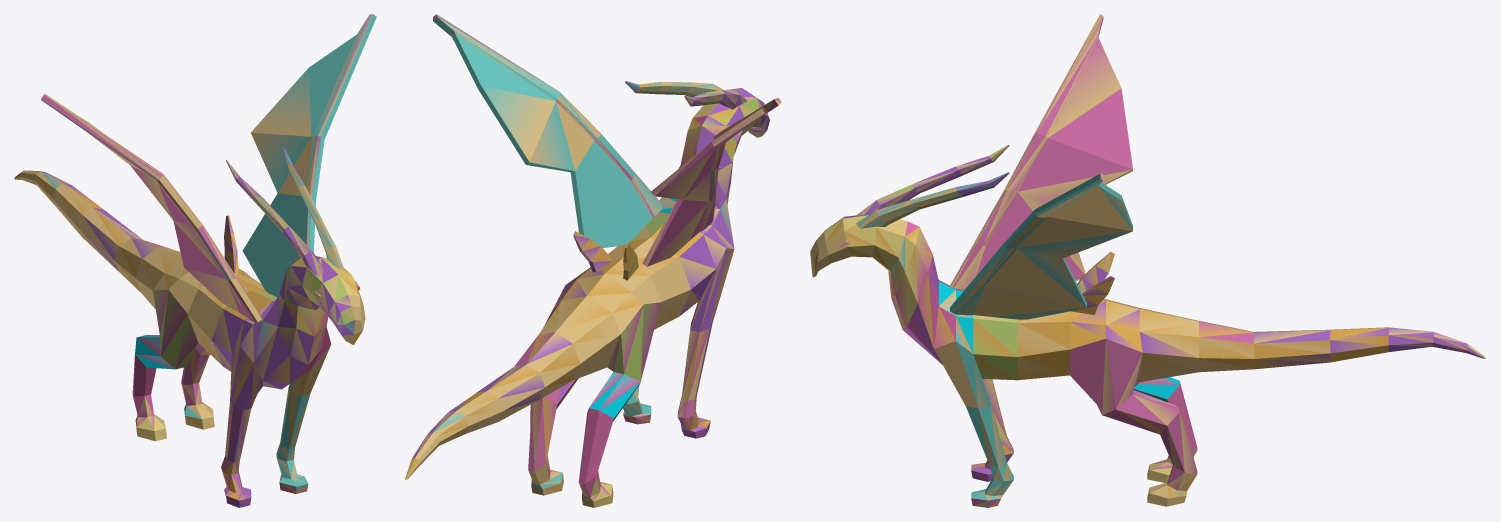
File: alebrije_dragon_rainbow_hero.glb
3 views of the same model, side by side, from view 1: azimuth 30°, elevation 25°; view 2: azimuth 150°, elevation 25°; view 3: azimuth 270°, elevation 25° (orthographic). The views are drawn at different scales.
Parts seen in each view (by area): view 1: Geo_Dragon; view 2: Geo_Dragon; view 3: Geo_Dragon.
Boxes of the visible parts, <box> form: Geo_Dragon: <box>14,14,376,507</box>; Geo_Dragon: <box>405,14,781,507</box>; Geo_Dragon: <box>810,14,1486,507</box>.
Bounding box in the file's own units: 2.84 × 3.23 × 5.
